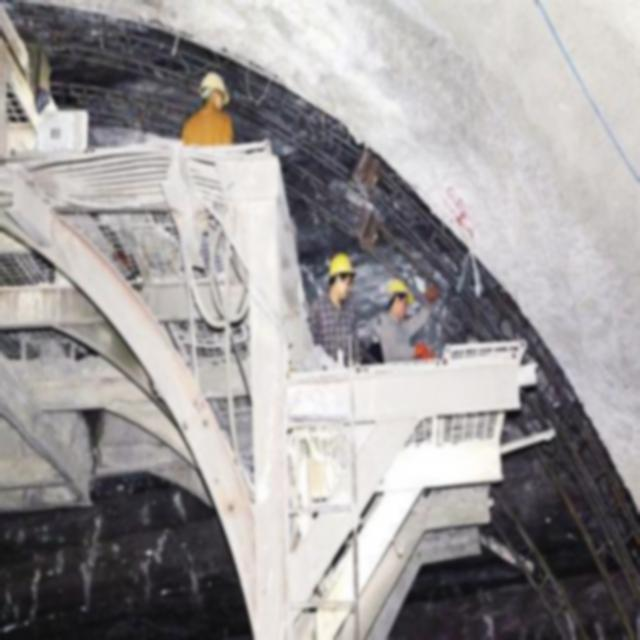head: (328, 250, 357, 305), (383, 279, 417, 321), (200, 68, 230, 114)
